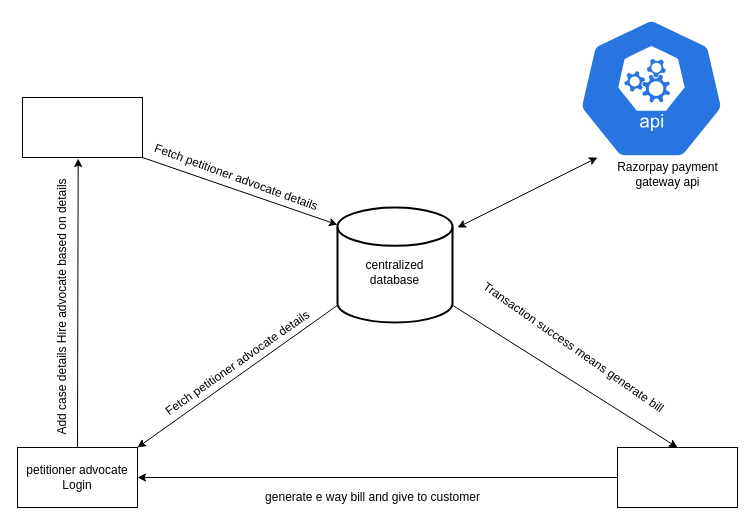
This 755x525 diagram has some shape labels left out. The shapes that lost their labels are listed below. From the top down, each one's centre as x and y in pixels, then its label:
the point at 82,127: Add case and Hire Advocate
the point at 677,477: Generate Invoice
